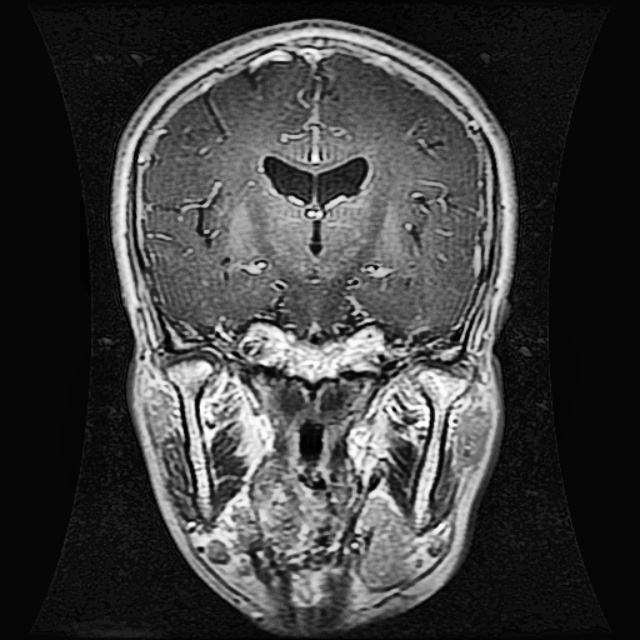Meningioma: (179, 178, 232, 244)
